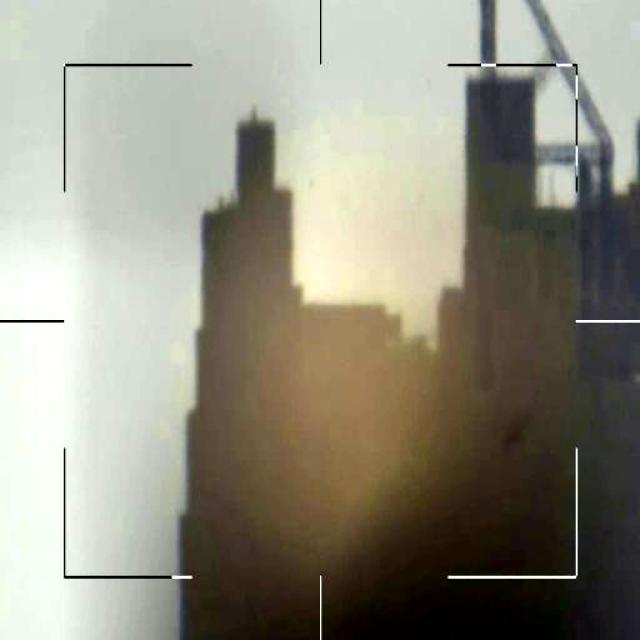bird: (485, 411, 545, 476)
